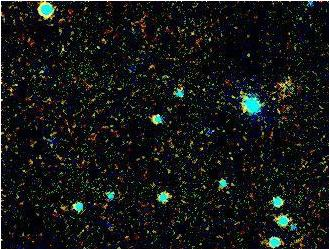star: (259, 80, 289, 110)
